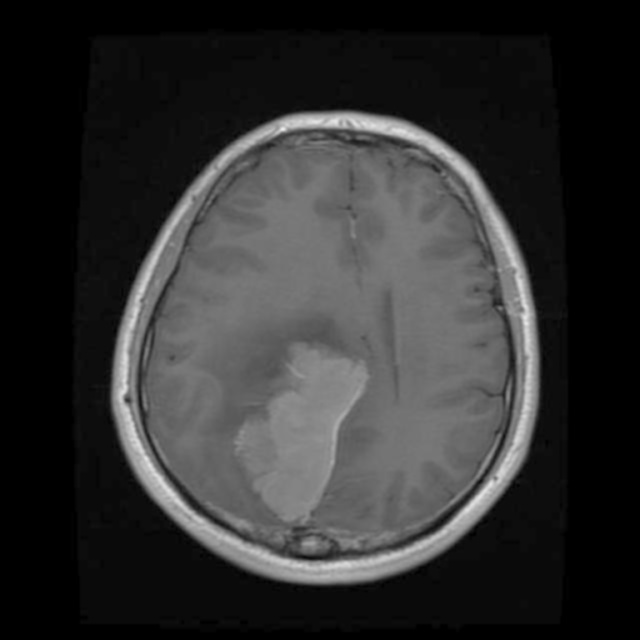meningioma tumor: (228, 330, 380, 545)
